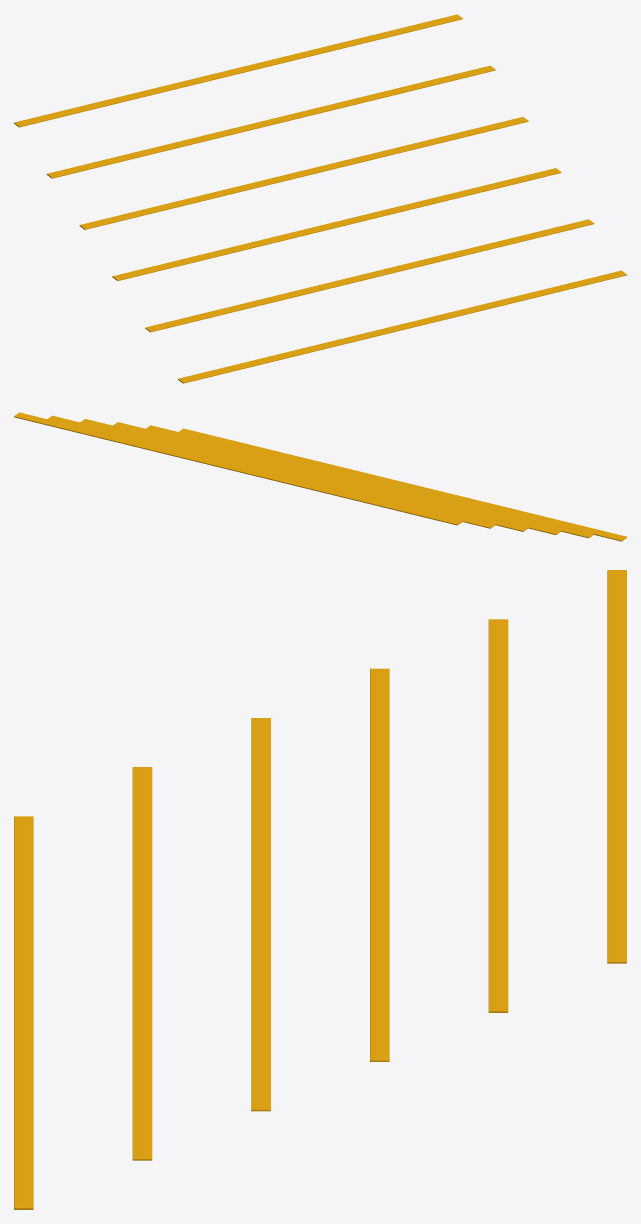
The model's file is gteki_ik_stair_n6_r152_t332_w2609_nosing.glb.
The picture shows the model from 3 angles, top to bottom: view 1: azimuth 30°, elevation 25°; view 2: azimuth 150°, elevation 25°; view 3: azimuth 270°, elevation 25°; orthographic projection. The views are drawn at different scales.
Parts seen in each view (by area): view 1: VIS_nosings; view 2: VIS_nosings; view 3: VIS_nosings.
Boxes of the visible parts, box(x1,y1,x2,y2) form: VIS_nosings: box(14, 14, 626, 383); VIS_nosings: box(14, 412, 626, 541); VIS_nosings: box(14, 570, 626, 1209).
Bounding box in the file's own units: 2.59 × 0.766 × 1.72.
